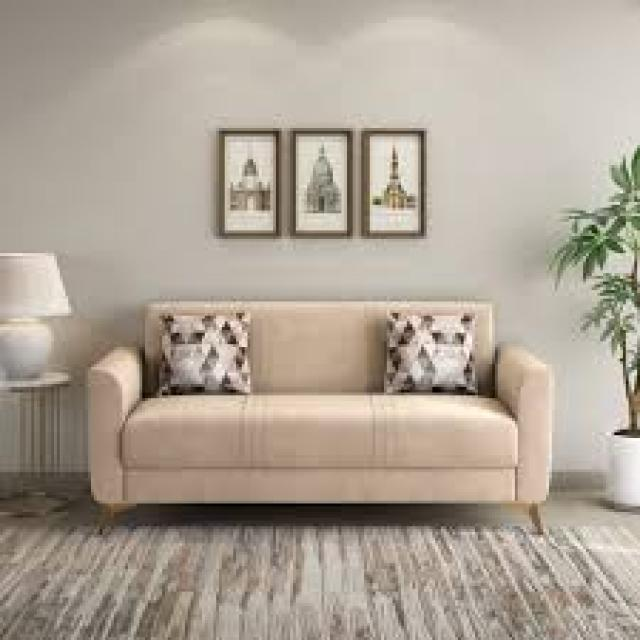sofa: (82, 296, 554, 535)
